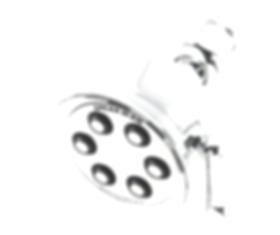Ducha: (50, 4, 245, 234)
